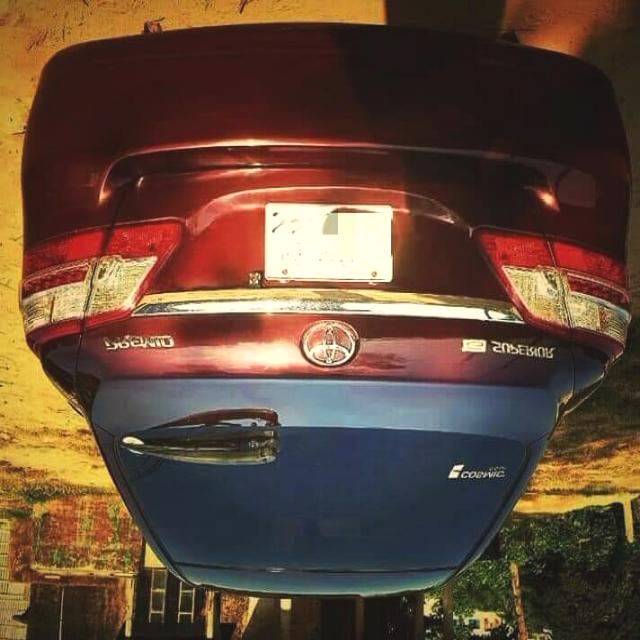maroon: (0, 26, 640, 600)
